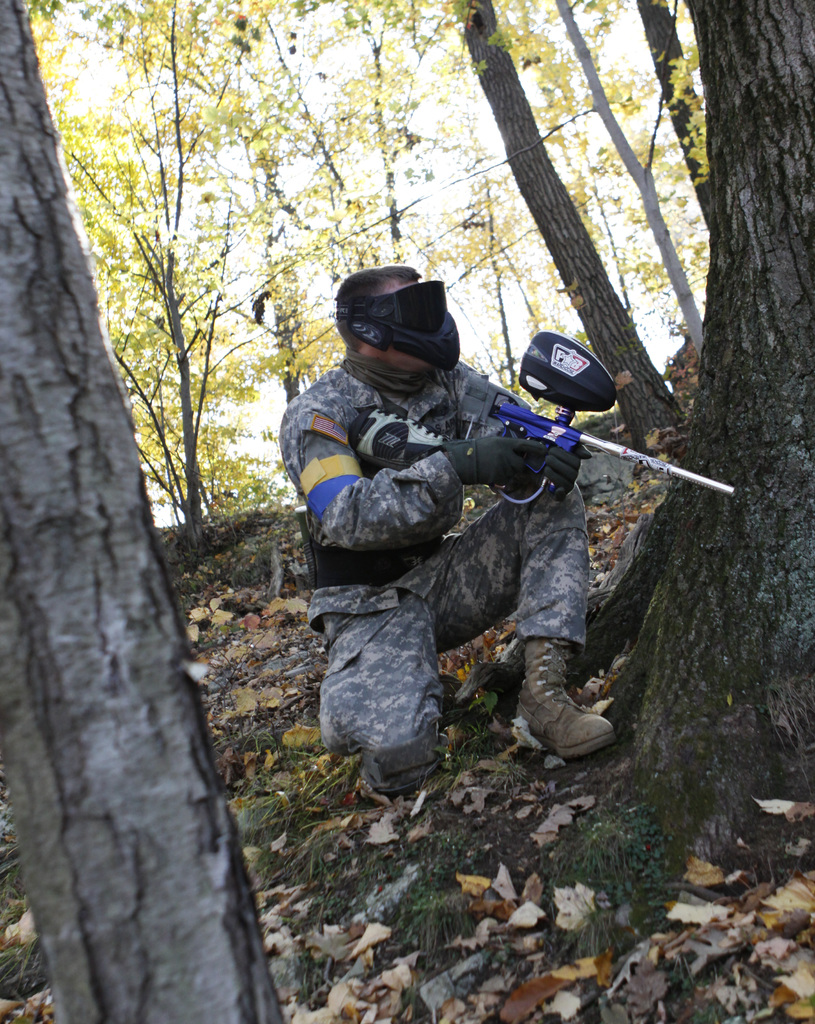Person: (278, 265, 616, 796)
